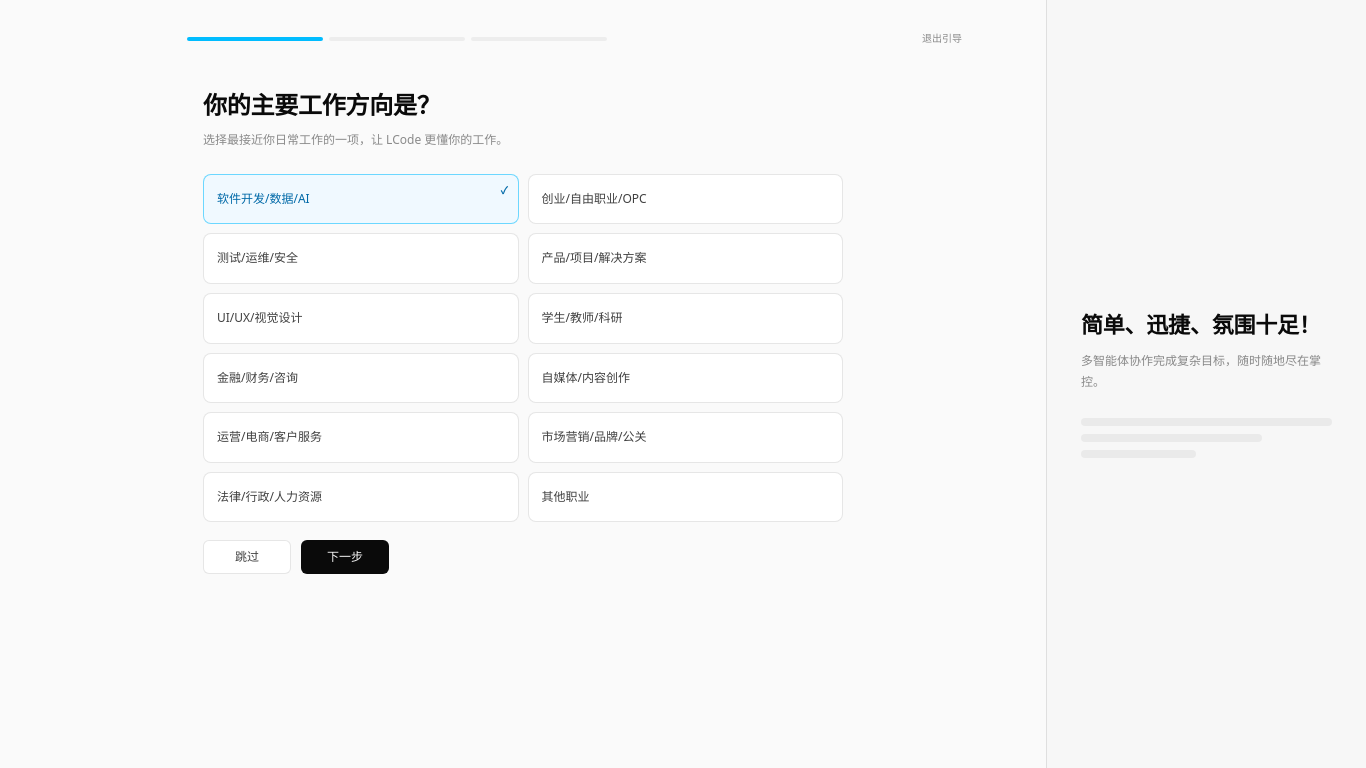
Scenario: OnboardingView · 新手引导 3 步（B7） › 翻步：进度条 aria/seg 类随步切换；第 2 步双选卡互斥；上一步可回
Click the button "下一步" at {"x": 345, "y": 557}, box top-left (301, 540), bottom-right (389, 574)
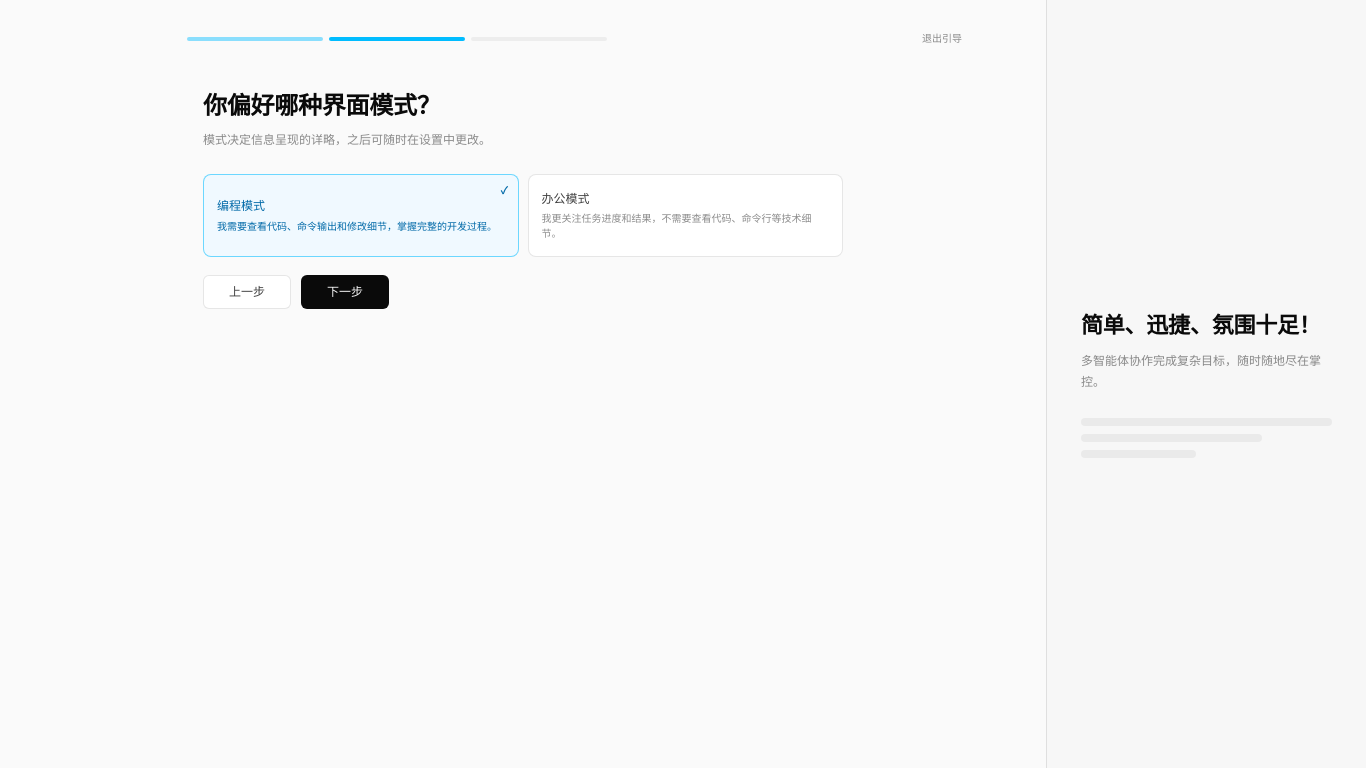
Expected: the number of elements with class "done" is 1, top-left (187, 37), bottom-right (323, 41)
Now the heading "你偏好哪种界面模式？" is shown, box top-left (203, 88), bottom-right (441, 121)
Click the button "办公模式 我更关注任务进度和结果，不需要查看代码、命令行等技术细节。" at {"x": 685, "y": 216}, box top-left (528, 174), bottom-right (843, 257)
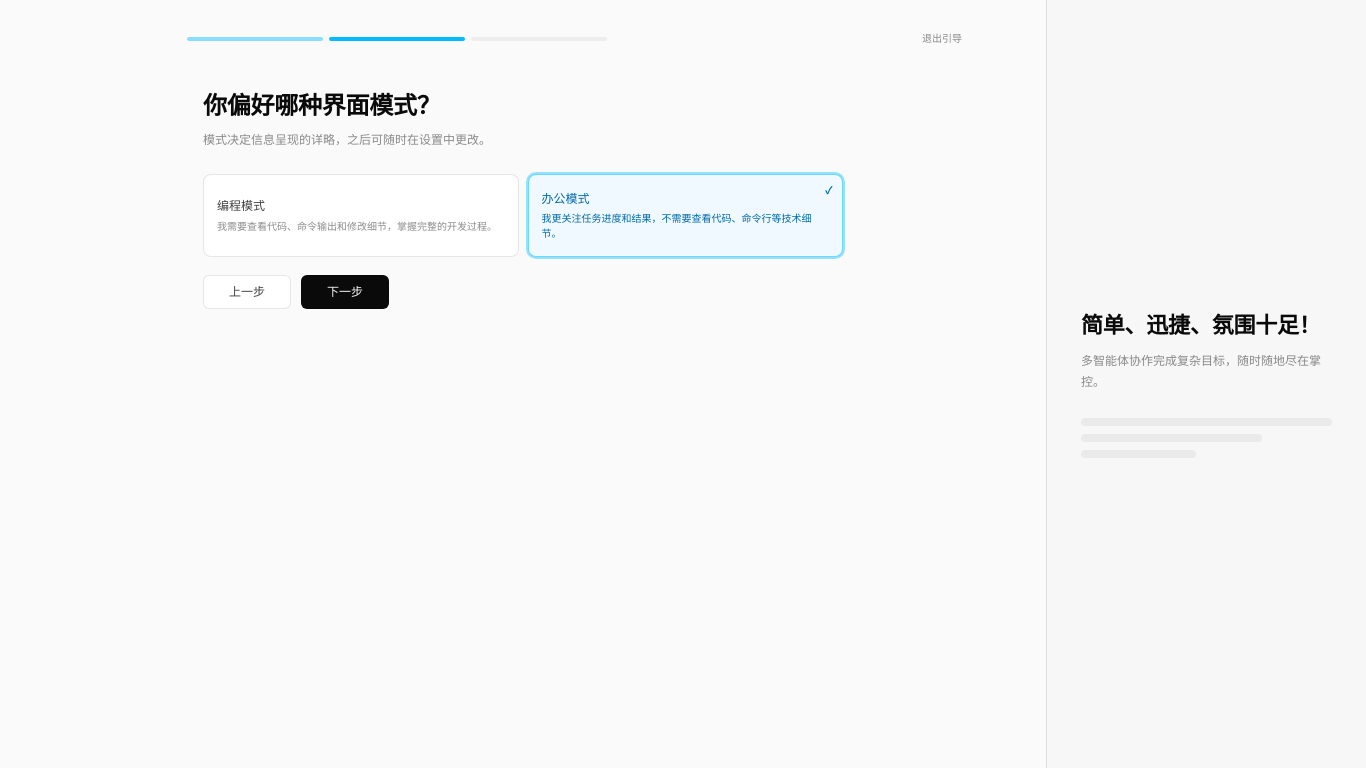
Now the button "办公模式 我更关注任务进度和结果，不需要查看代码、命令行等技术细节。" is pressed, box top-left (528, 174), bottom-right (843, 257)
Now the button "编程模式 我需要查看代码、命令输出和修改细节，掌握完整的开发过程。" is not pressed, box top-left (203, 174), bottom-right (518, 257)
Click the button "上一步" at {"x": 247, "y": 292}, box top-left (203, 275), bottom-right (291, 309)
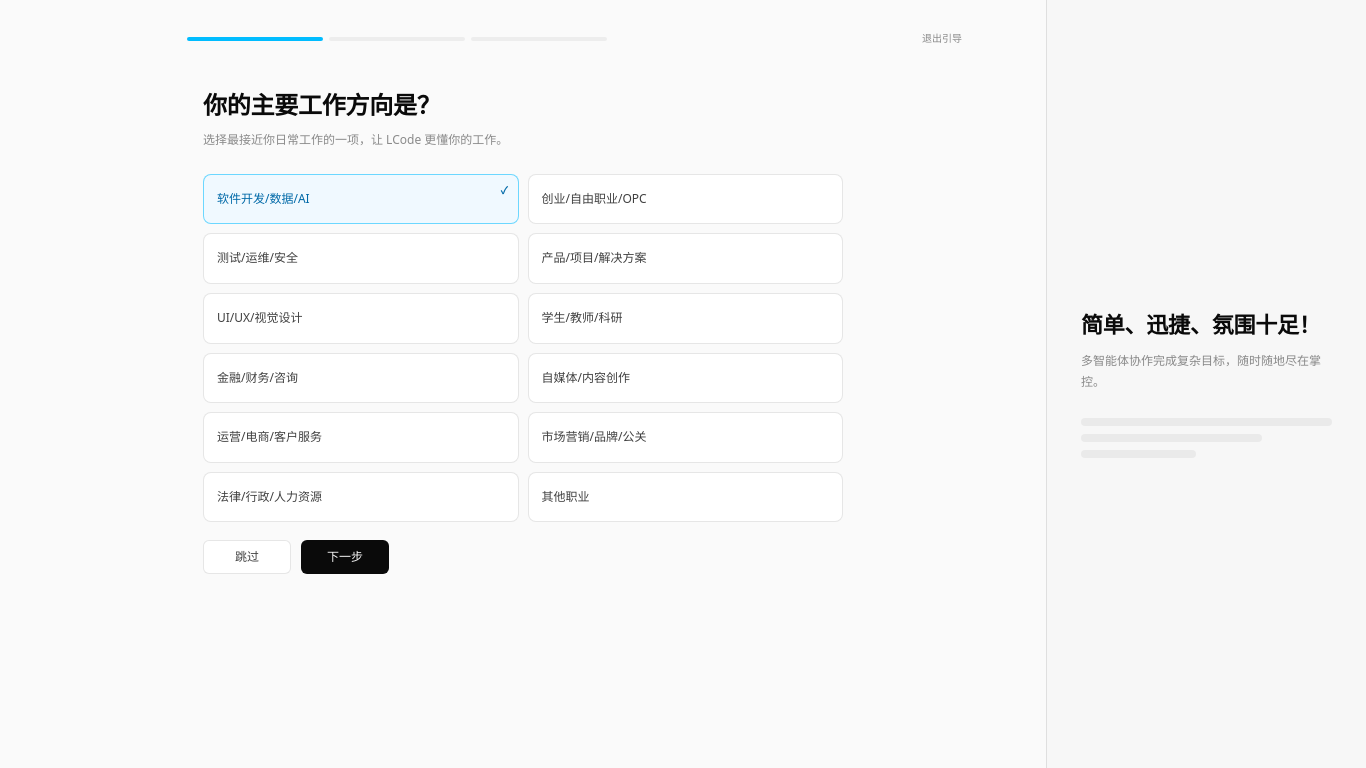
Now the heading "你的主要工作方向是？" is shown, box top-left (203, 88), bottom-right (441, 121)
